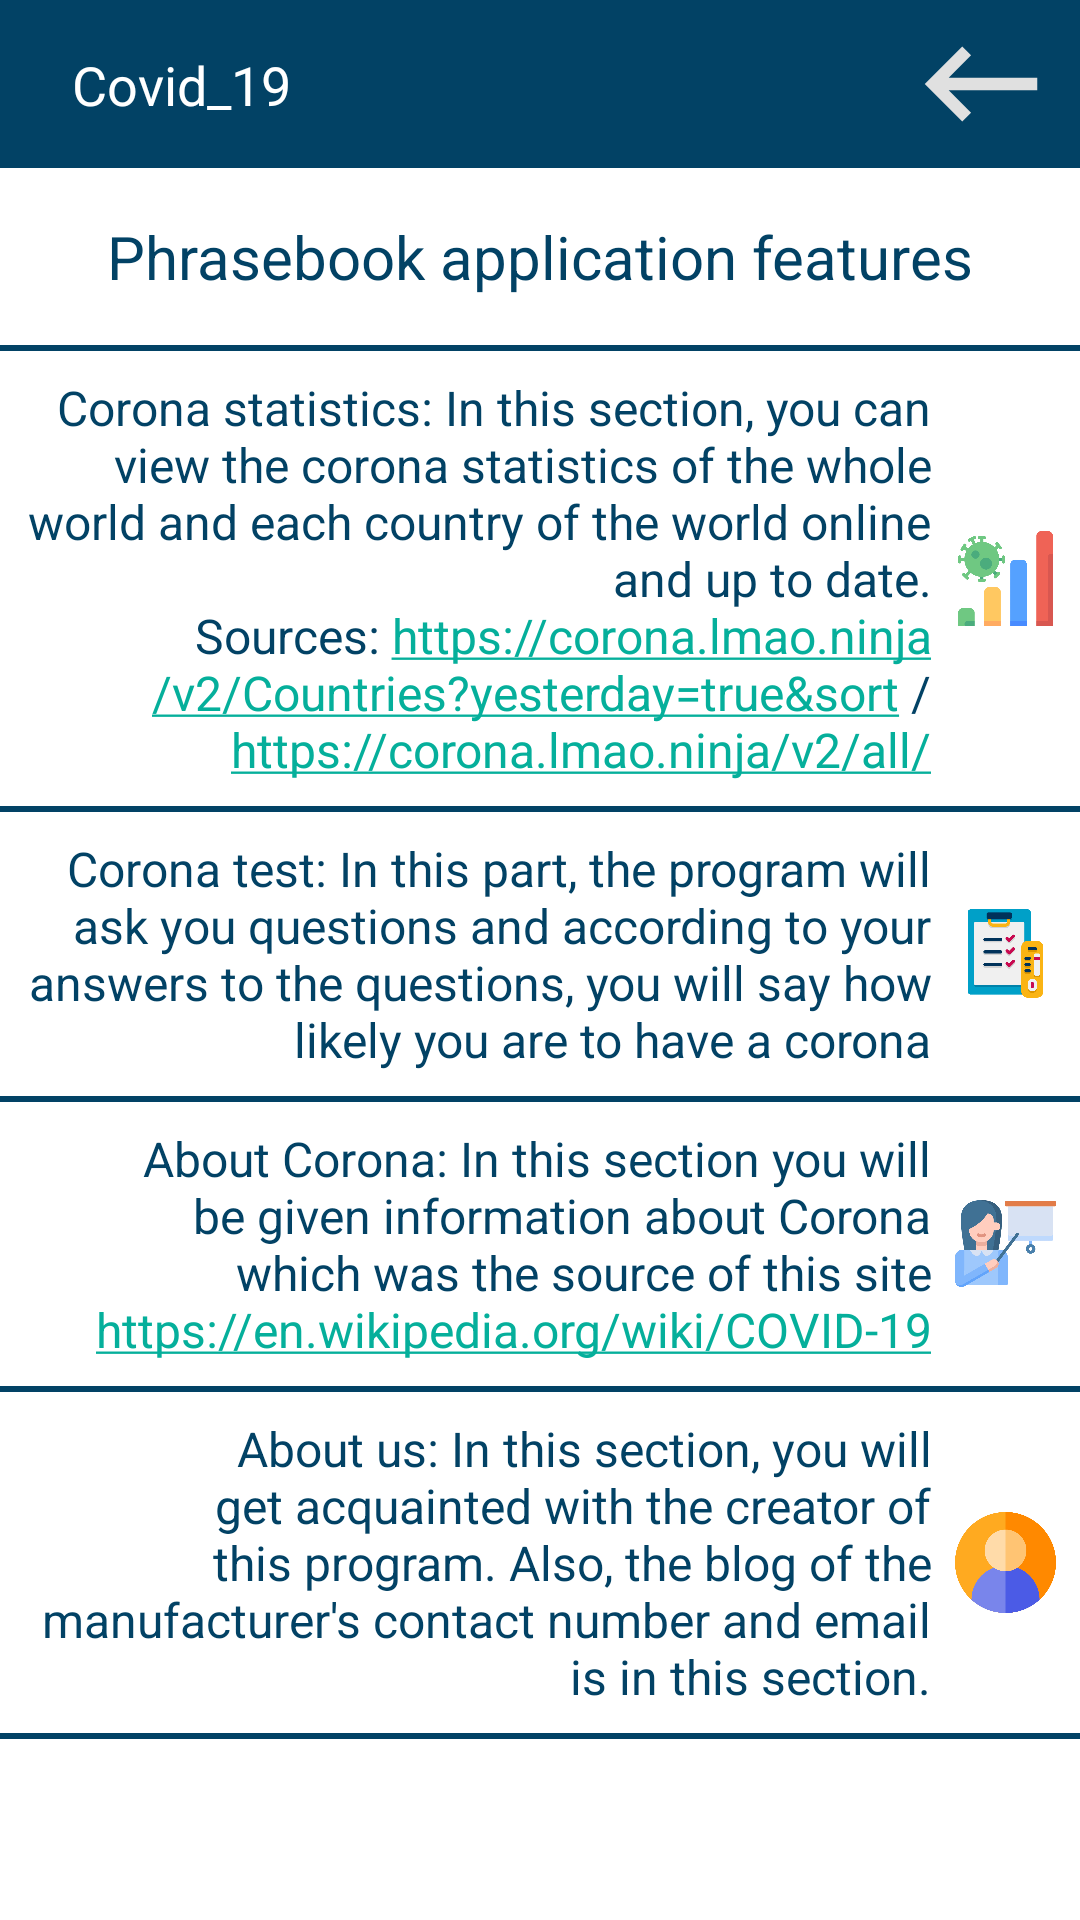

Named icons in this screenshot (1080×1920) and their centers, point (x, y):
keyboard backspace: point (981, 84)
testing: point (1005, 953)
user: point (1005, 1562)
